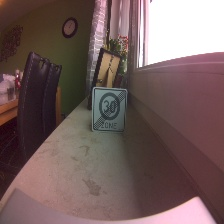dreisiger_zone_ende: (91, 87, 128, 134)
